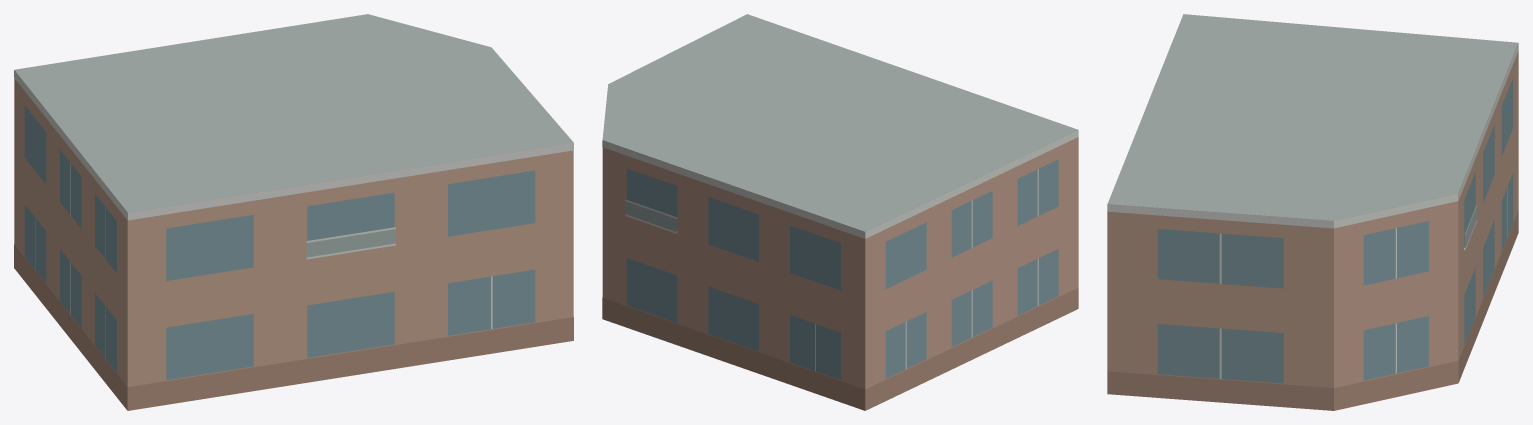
The model's file is survey-upis-32804863.glb.
3 views of the same model, side by side, from view 1: azimuth 30°, elevation 25°; view 2: azimuth 150°, elevation 25°; view 3: azimuth 270°, elevation 25° (orthographic). The views are drawn at different scales.
Parts seen in each view (by area): view 1: survey-upis-32804863.tmp; view 2: survey-upis-32804863.tmp; view 3: survey-upis-32804863.tmp.
Boxes of the visible parts, x1,y1,x2,y2 form: survey-upis-32804863.tmp: (14,14,573,410); survey-upis-32804863.tmp: (602,14,1078,410); survey-upis-32804863.tmp: (1107,14,1518,410).
Size of the model in its own units: 14.25 by 6.1 by 11.97.
